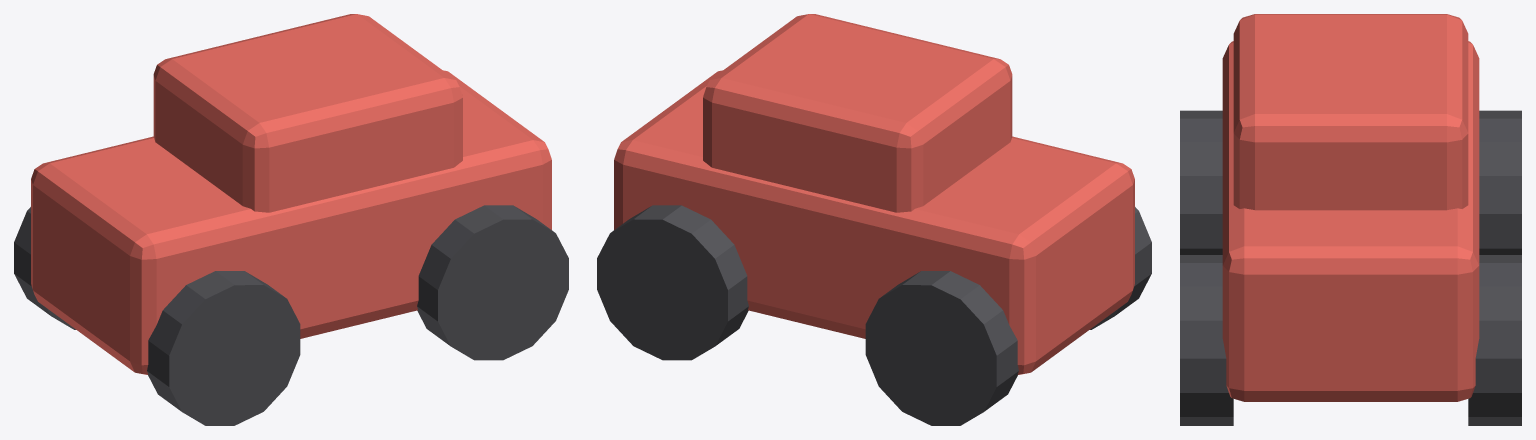
The model's file is toy-car.glb.
The picture shows the model from 3 angles, left to right: view 1: azimuth 30°, elevation 25°; view 2: azimuth 150°, elevation 25°; view 3: azimuth 270°, elevation 25°; orthographic projection. The views are drawn at different scales.
Parts seen in each view (by area): view 1: toy_car; view 2: toy_car; view 3: toy_car.
Boxes of the visible parts, x1,y1,x2,y2 form: toy_car: (14, 14, 568, 425); toy_car: (597, 14, 1151, 425); toy_car: (1180, 14, 1521, 425).
Bounding box in the file's own units: 0.5 × 0.3 × 0.32.
